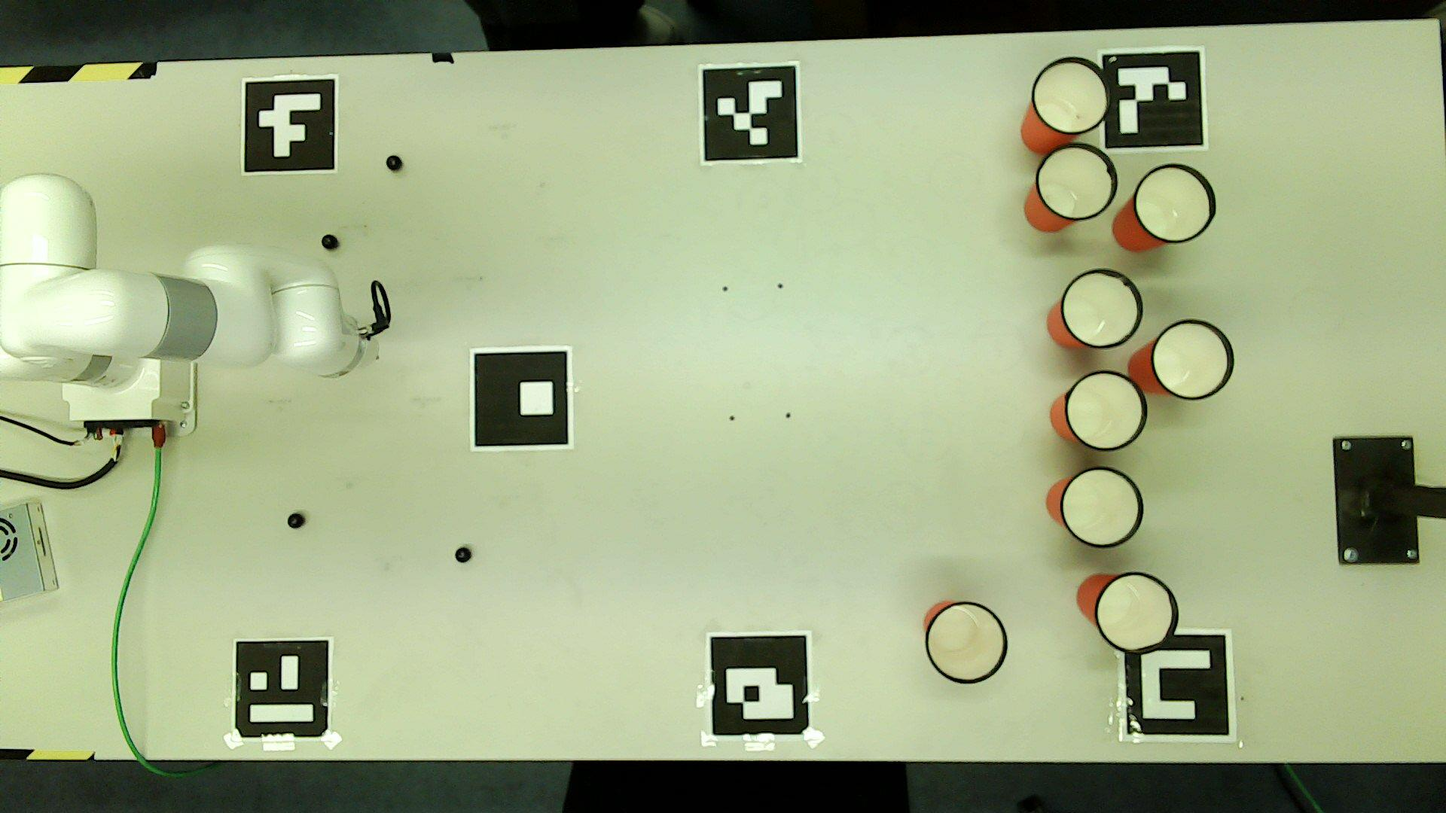ball: (387, 156, 401, 170), (456, 548, 470, 562), (322, 235, 336, 248), (289, 514, 302, 526)
cup: (927, 603, 1006, 682), (1097, 573, 1176, 652), (1063, 468, 1142, 547), (1153, 321, 1232, 400), (1068, 371, 1145, 450), (1137, 165, 1214, 242), (1037, 144, 1116, 219), (1063, 270, 1140, 346), (1033, 58, 1109, 133)
